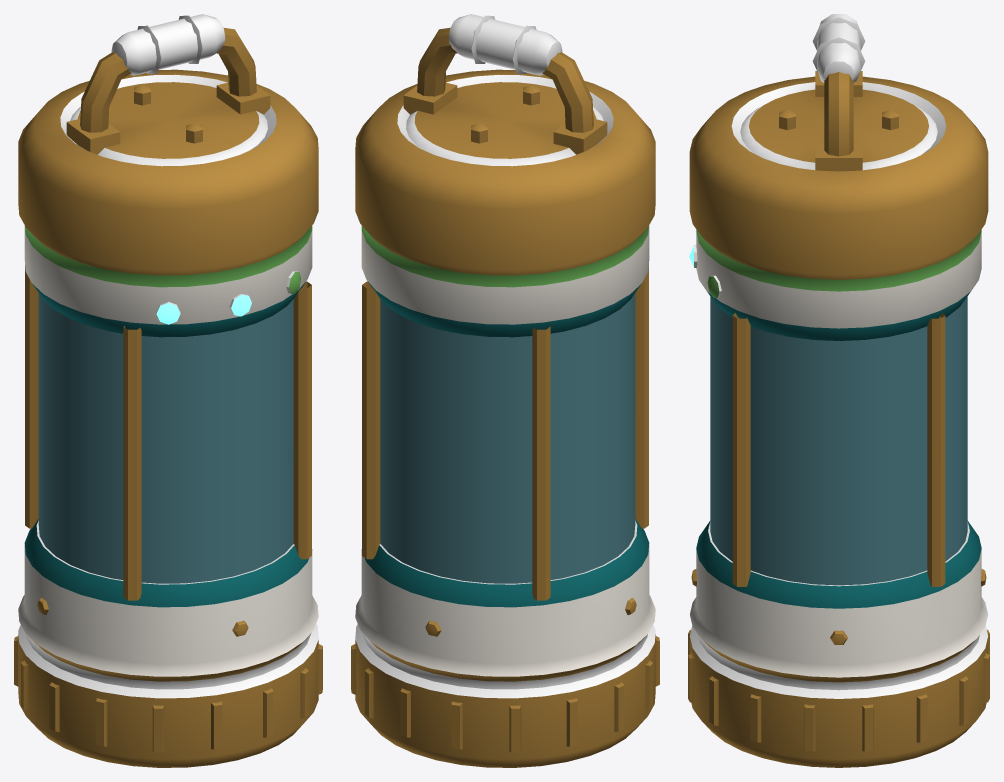
Rendered from power_cell.fbx.
The picture shows the model from 3 angles, left to right: view 1: azimuth 30°, elevation 25°; view 2: azimuth 150°, elevation 25°; view 3: azimuth 270°, elevation 25°; orthographic projection.
Visible parts, largest first — view 1: PowerCell; view 2: PowerCell; view 3: PowerCell.
Part boxes in pixels (<box>): PowerCell: <box>14,14,322,767</box>; PowerCell: <box>351,14,659,767</box>; PowerCell: <box>688,14,989,767</box>.
Size of the model in its own units: 0.1406 by 0.3508 by 0.1406.
